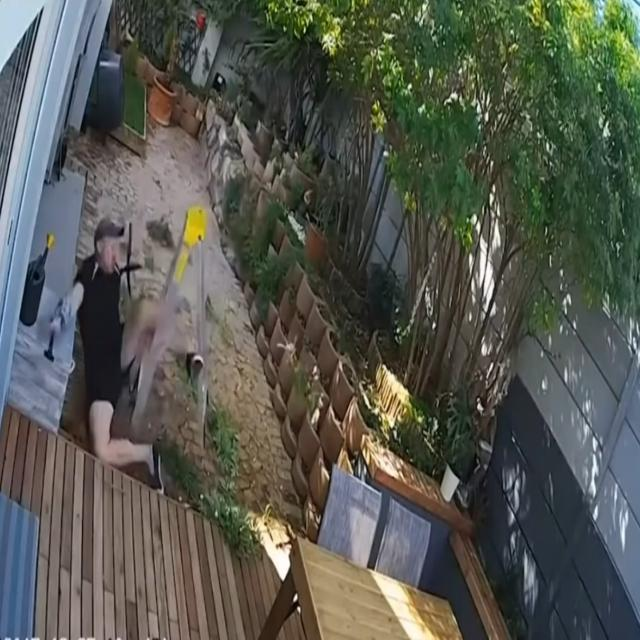fallen: (51, 217, 163, 492)
